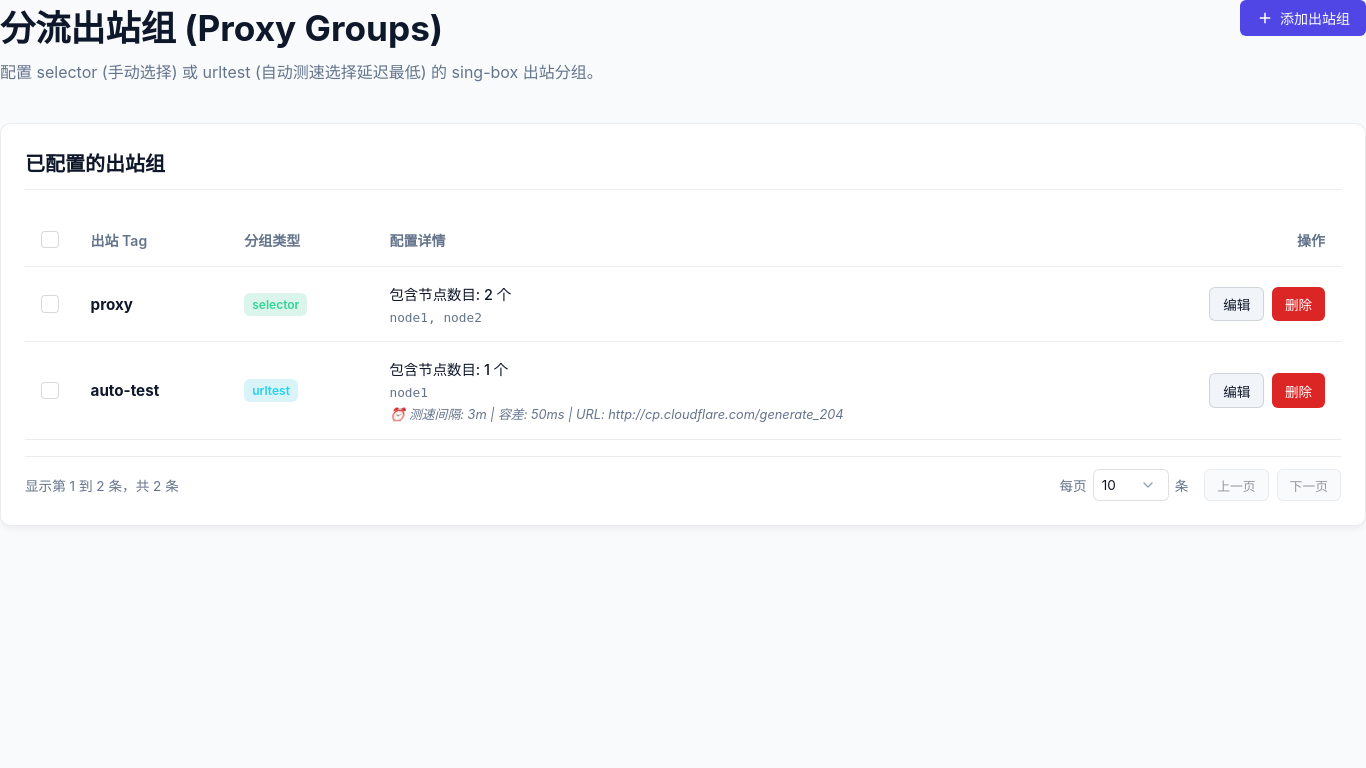
Scenario: GroupsView - 分流出站组管理 › 节点/出站组选择框增强筛选功能 › 支持关键词包含和排除多个关键词查询
Click the button "添加出站组" at [1303, 18], box [1240,0,1365,36]
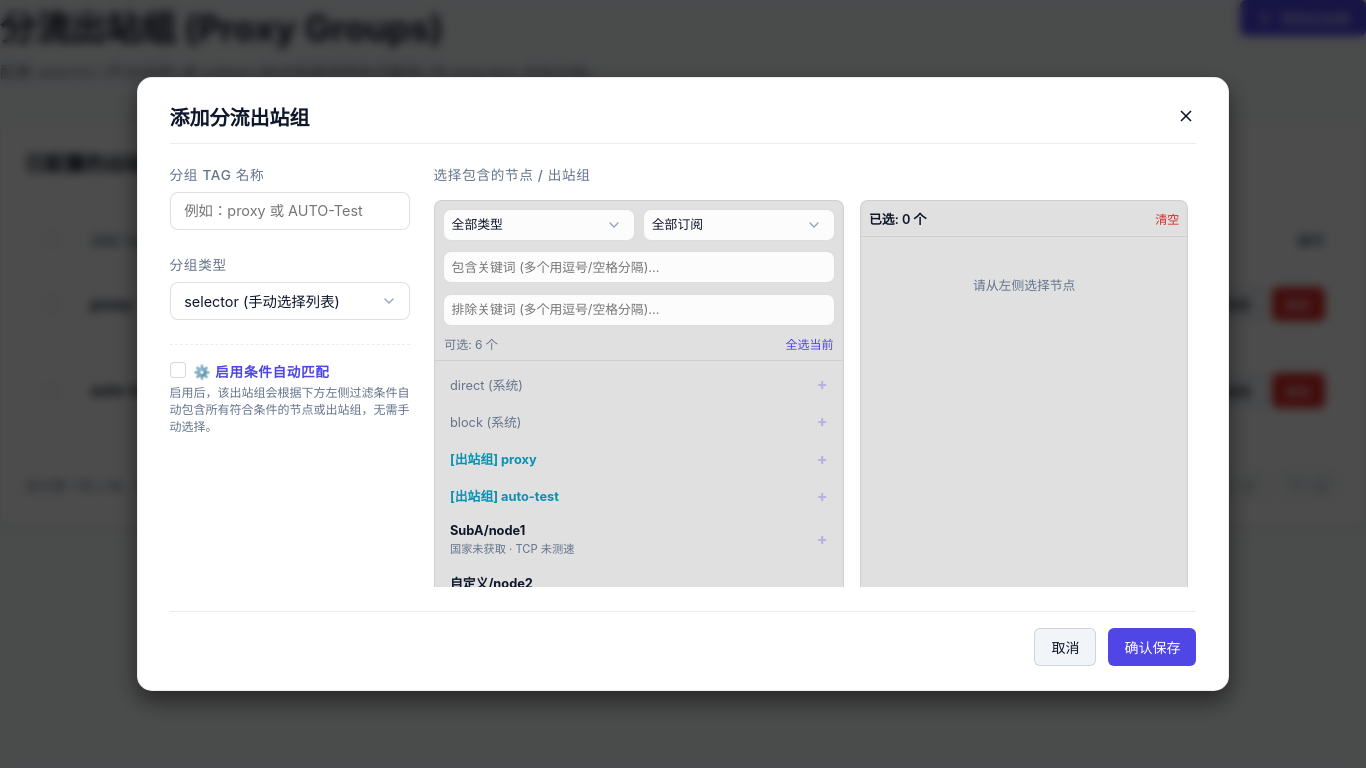
包含搜索 "node1, proxy" (OR logic)
Type "node1, proxy" into the field with placeholder "包含关键词 (多个用逗号/空格分隔)..." at [639, 267], box [443,251,835,283]
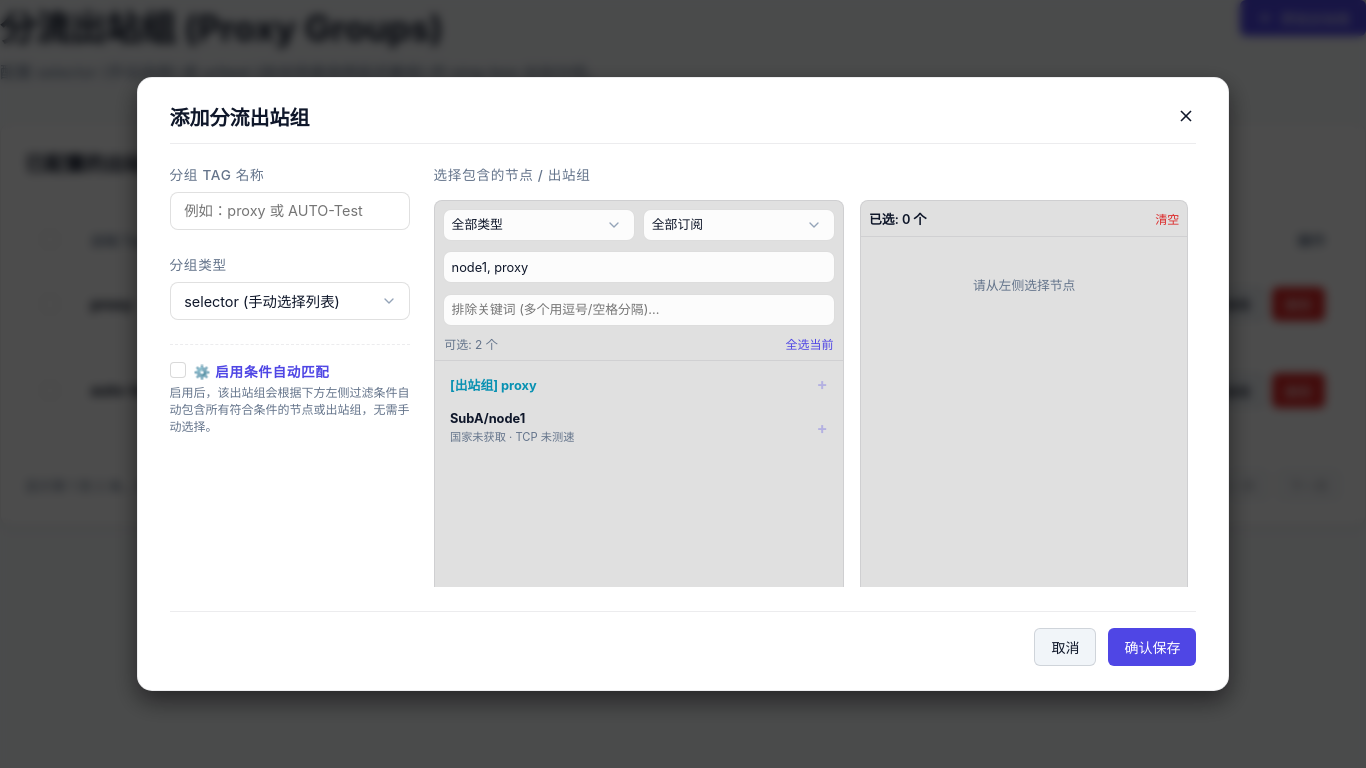
Expected: the text "node2" is not shown
Now the element showing "[出站组] proxy + SubA/node1 国家未获取 · TCP 未测速 +" is shown, box [450,374,828,444]
清空包含搜索，改为排除搜索 "node2, direct"
Clear the 2nd field at [639, 267], box [443,251,835,283]
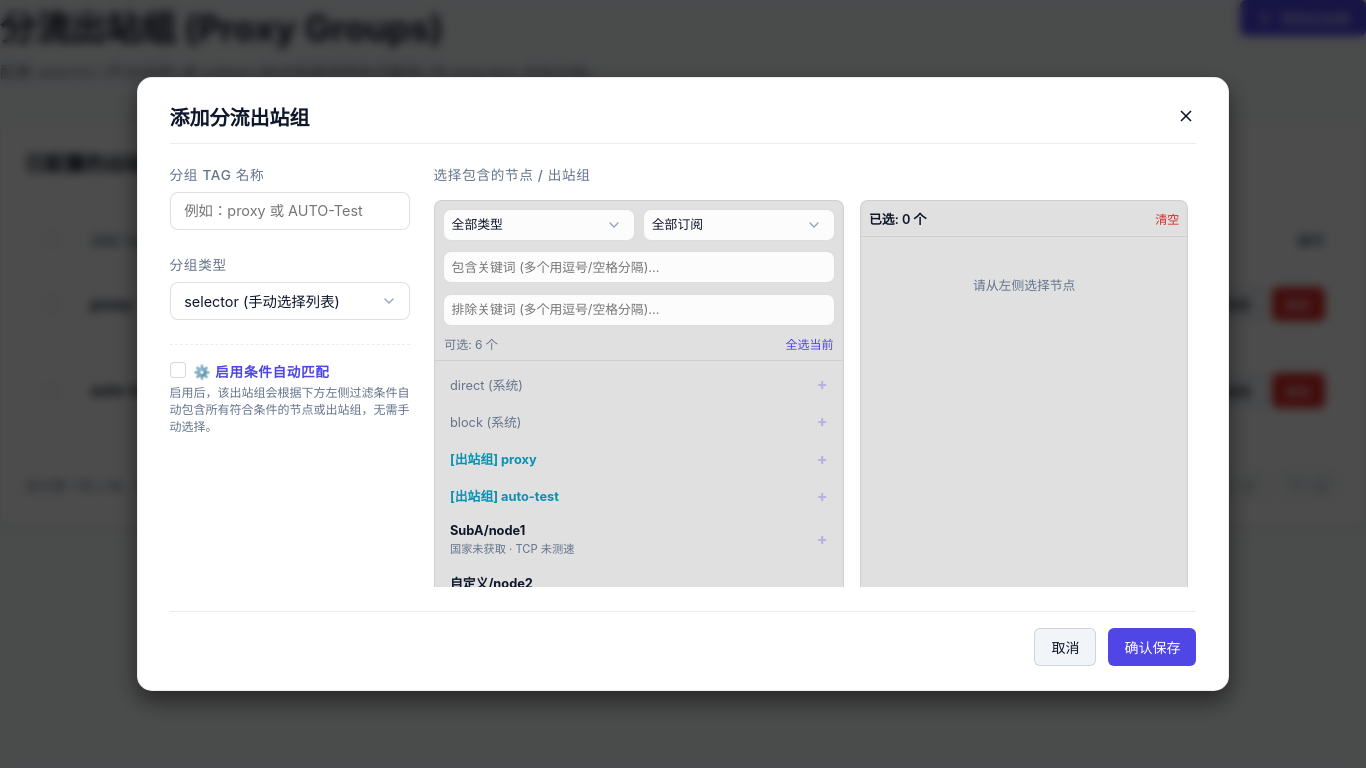
Type "node2, direct" into the field with placeholder "排除关键词 (多个用逗号/空格分隔)..." at [639, 310], box [443,294,835,326]
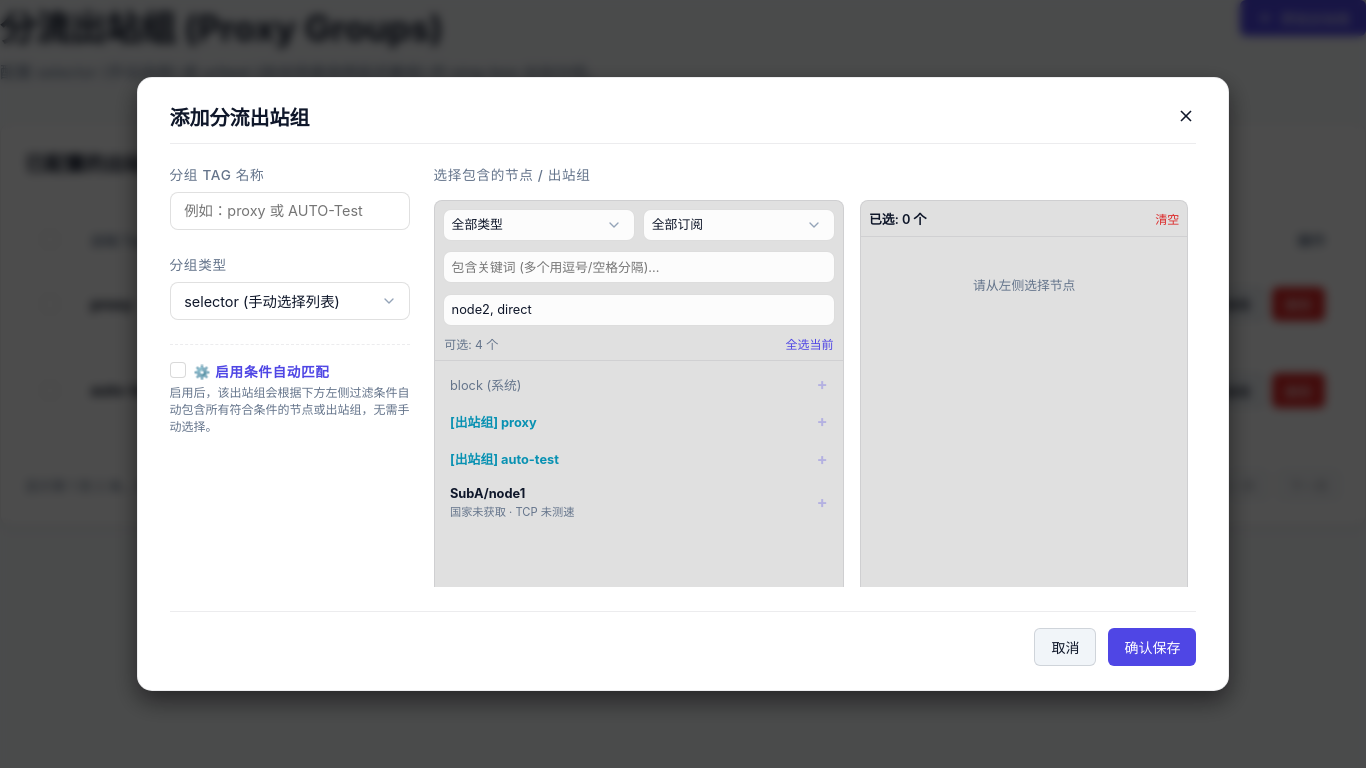
Now the element that starts with "block (系统)" shows "node1", box [450,486,525,501]
Now the text "node2" is gone
